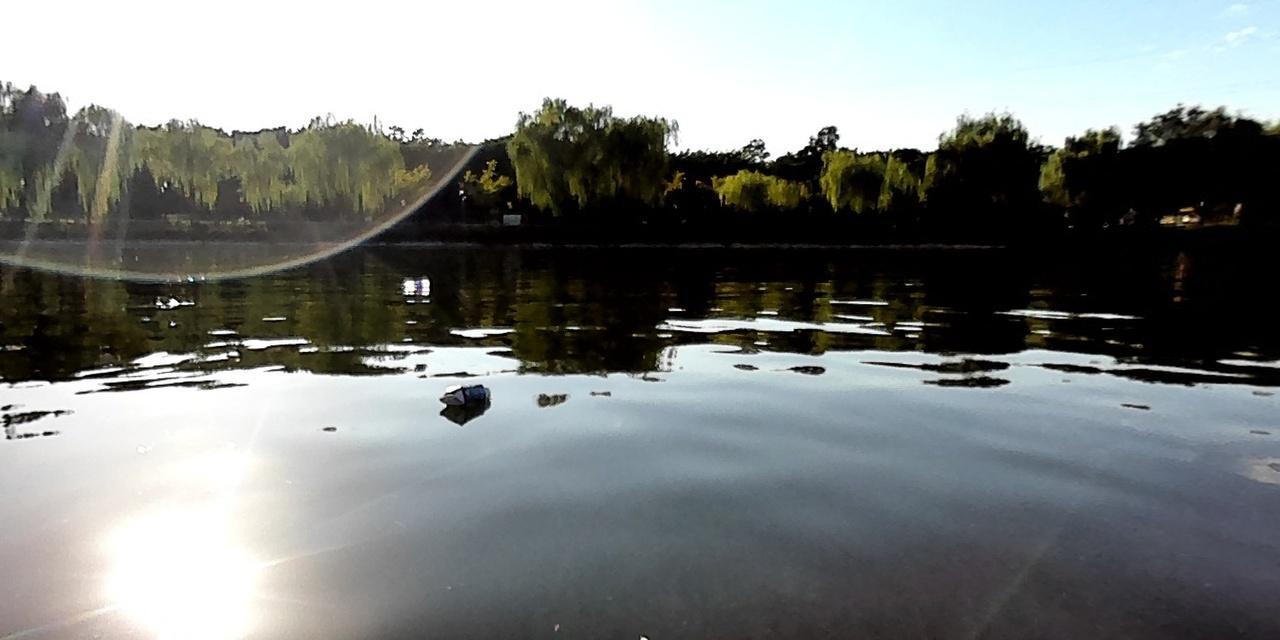bottle: (436, 379, 493, 406), (396, 277, 431, 289)
